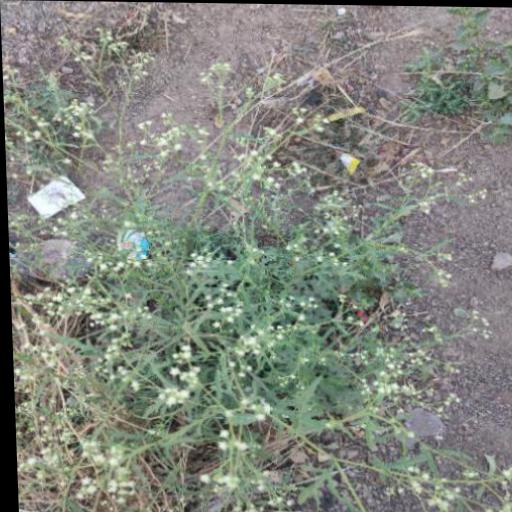weed: (3, 38, 508, 503)
